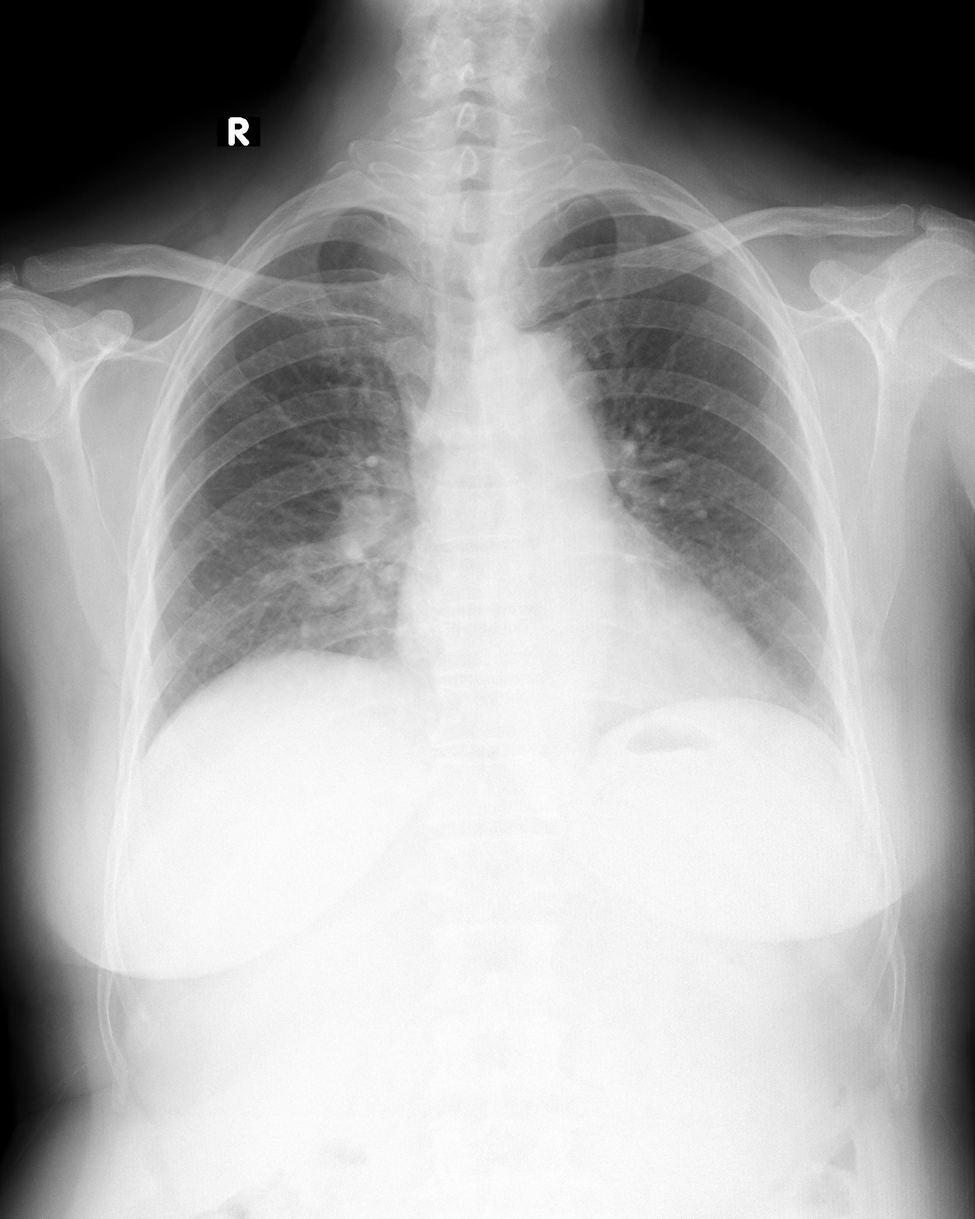Aortic enlargement: (482, 333, 602, 450)
Cardiomegaly: (388, 611, 785, 704)
Pleural thickening: (684, 214, 744, 261)
